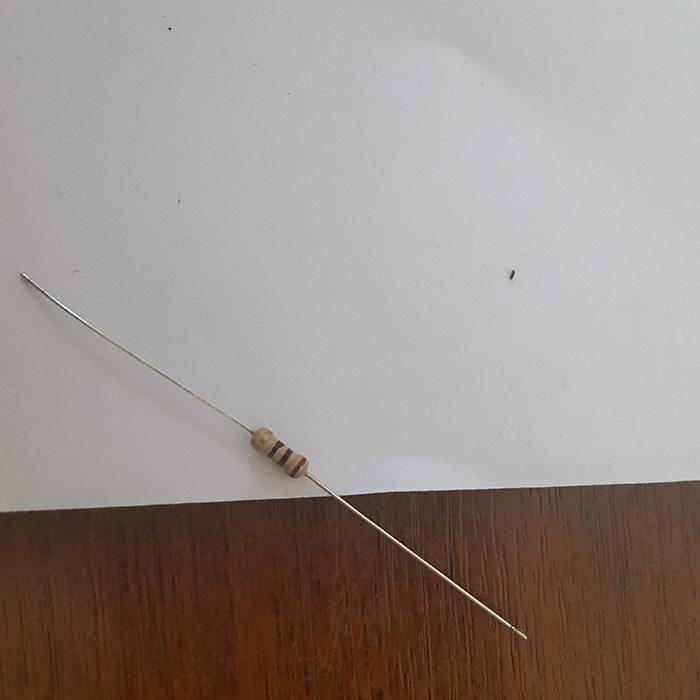resistor: (249, 425, 308, 479)
